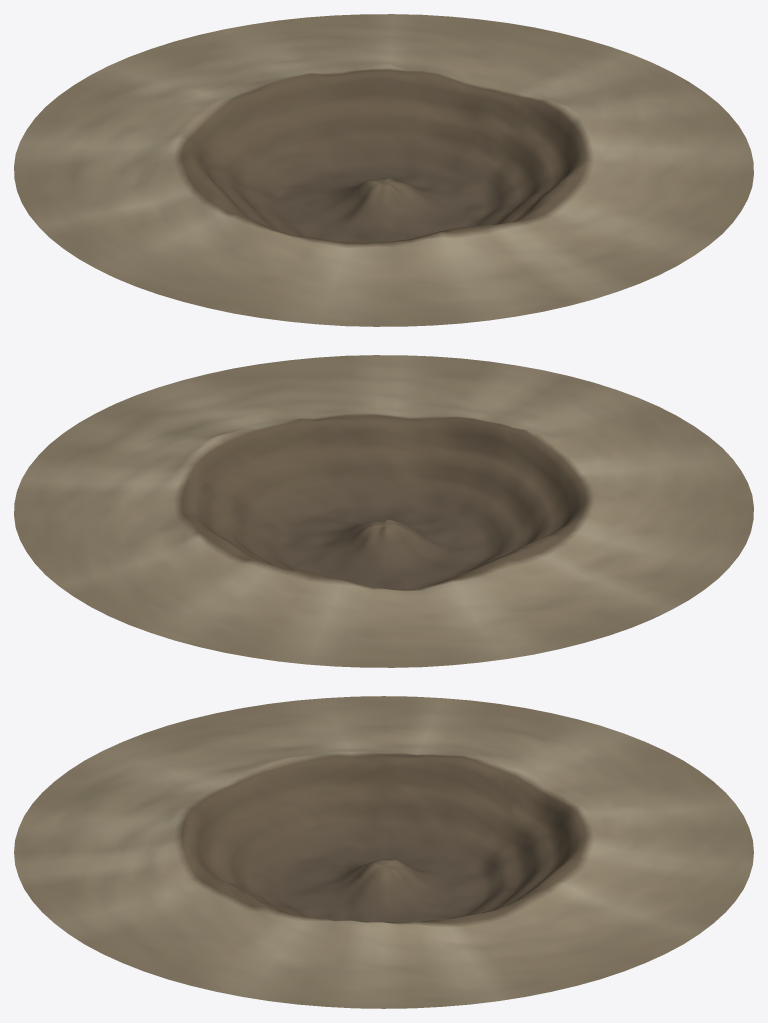
The model's file is impact-b72.glb.
3 renders of one model, top to bottom at view 1: azimuth 30°, elevation 25°; view 2: azimuth 150°, elevation 25°; view 3: azimuth 270°, elevation 25°, orthographic.
Parts seen in each view (by area): view 1: ground; view 2: ground; view 3: ground.
Boxes of the visible parts, x1,y1,x2,y2 form: ground: (14,14,753,326); ground: (14,355,753,667); ground: (14,696,753,1008).
Size of the model in its own units: 17 by 1.45 by 17.
